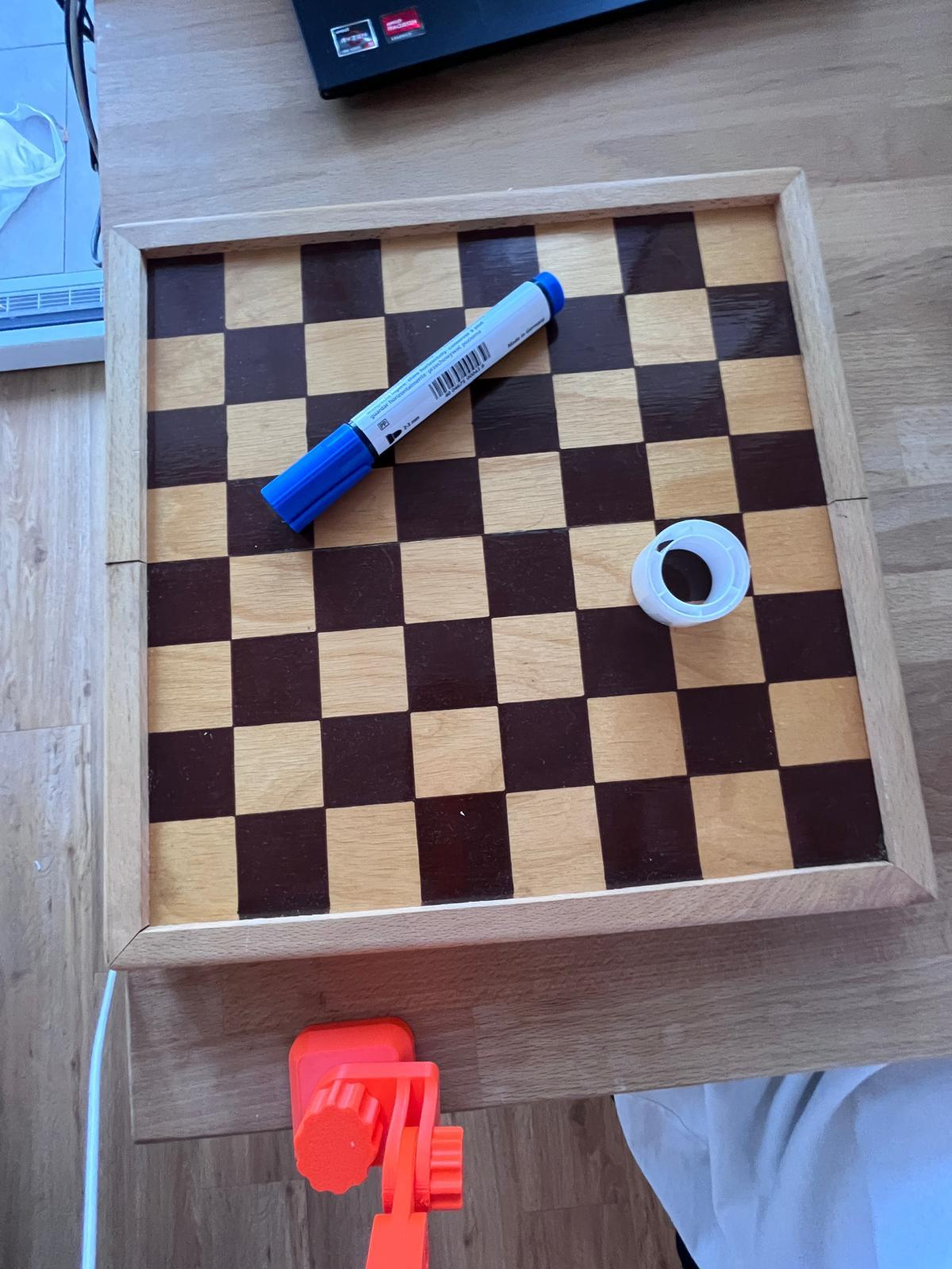marker: (246, 274, 560, 531)
tape: (612, 516, 758, 630)
